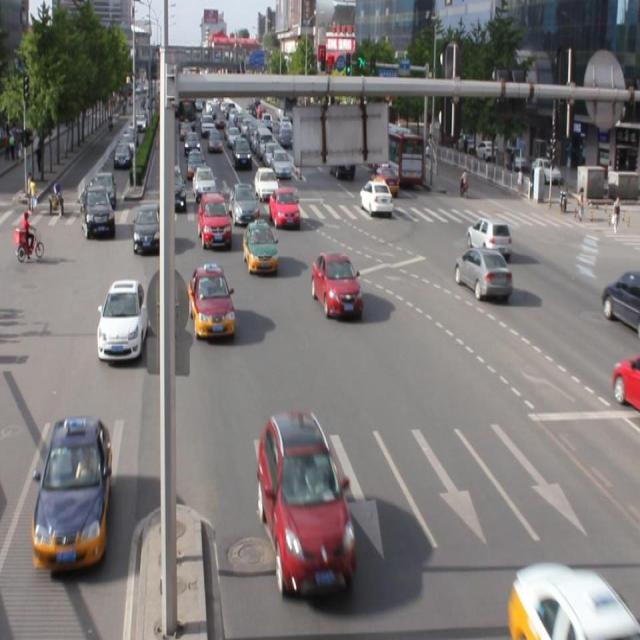car: (258, 411, 356, 594), (33, 415, 112, 565), (98, 278, 148, 361), (311, 252, 363, 320), (189, 265, 235, 339), (453, 247, 510, 301), (599, 270, 640, 333), (243, 218, 278, 276), (466, 216, 510, 260), (198, 192, 231, 250), (133, 202, 163, 255)
